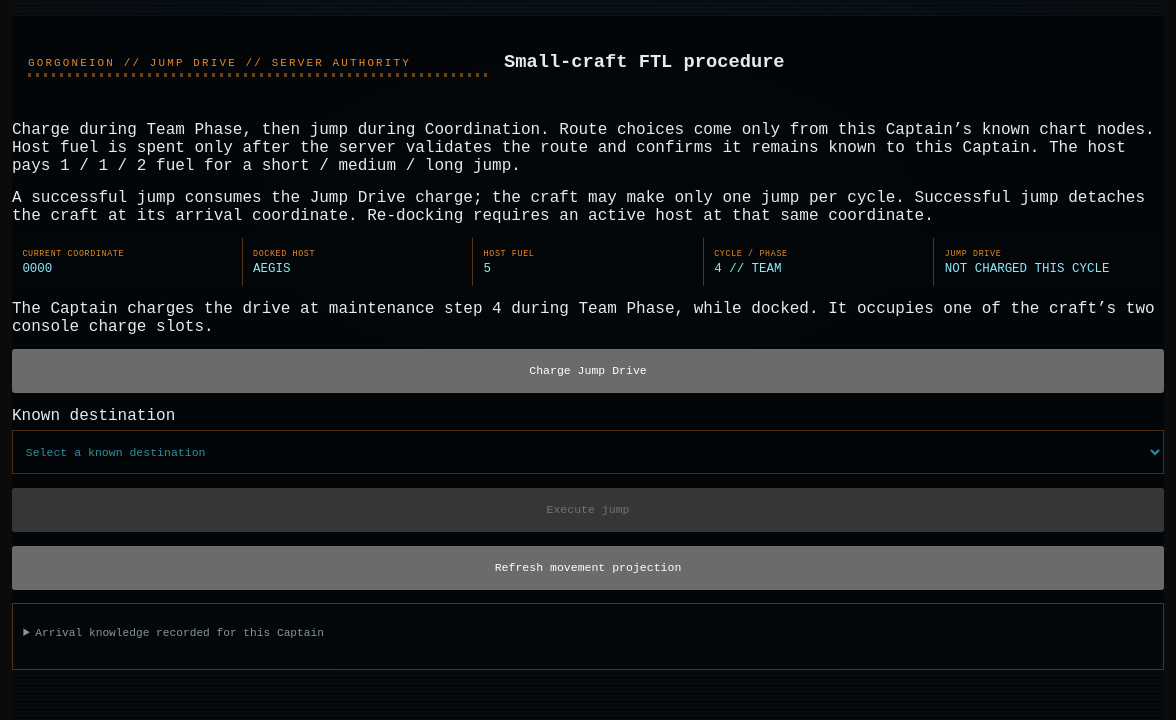
Small Ship Jump Drive workspace › exposes a Team Phase charge control and records its successful result
The image size is (1176, 720).
Click the button "Charge Jump Drive" at (588,371), box [12,349,1164,393]
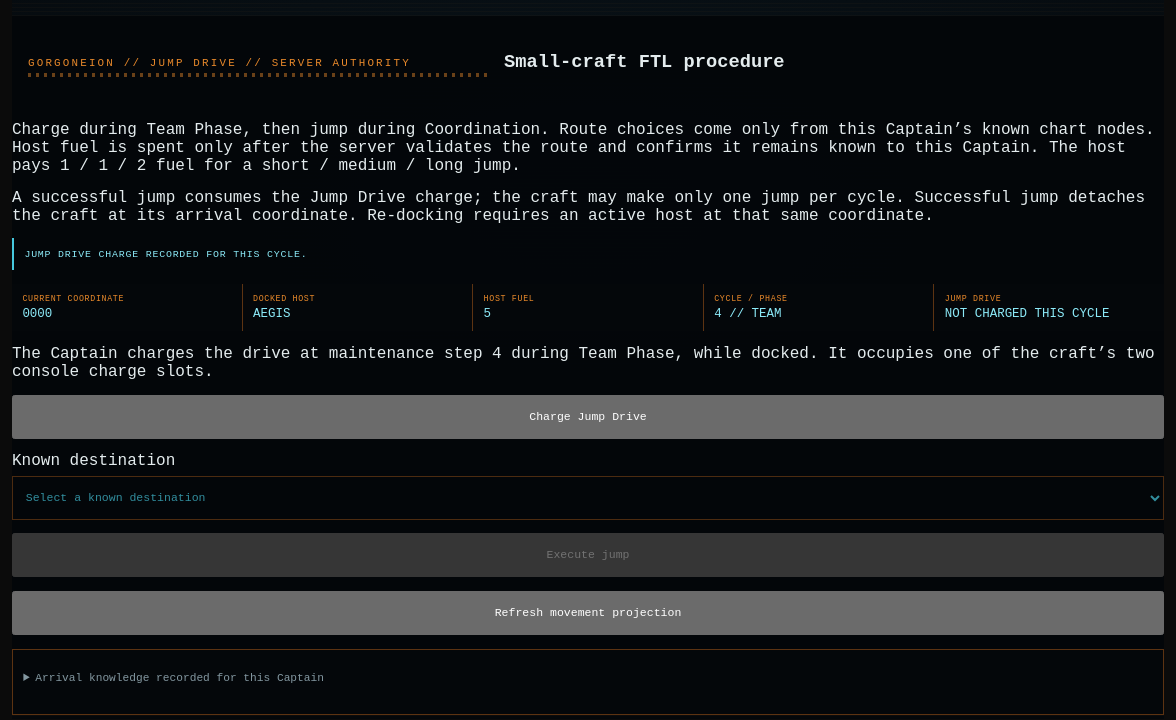
Now the text "Jump Drive charge recorded for this cycle." is shown, box [12,238,1164,270]
